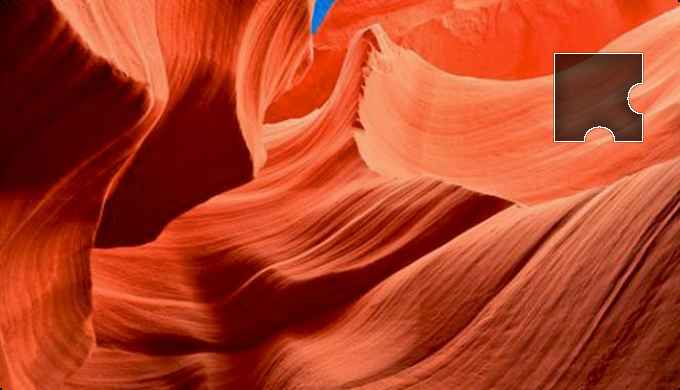gap: (556, 55, 642, 140)
